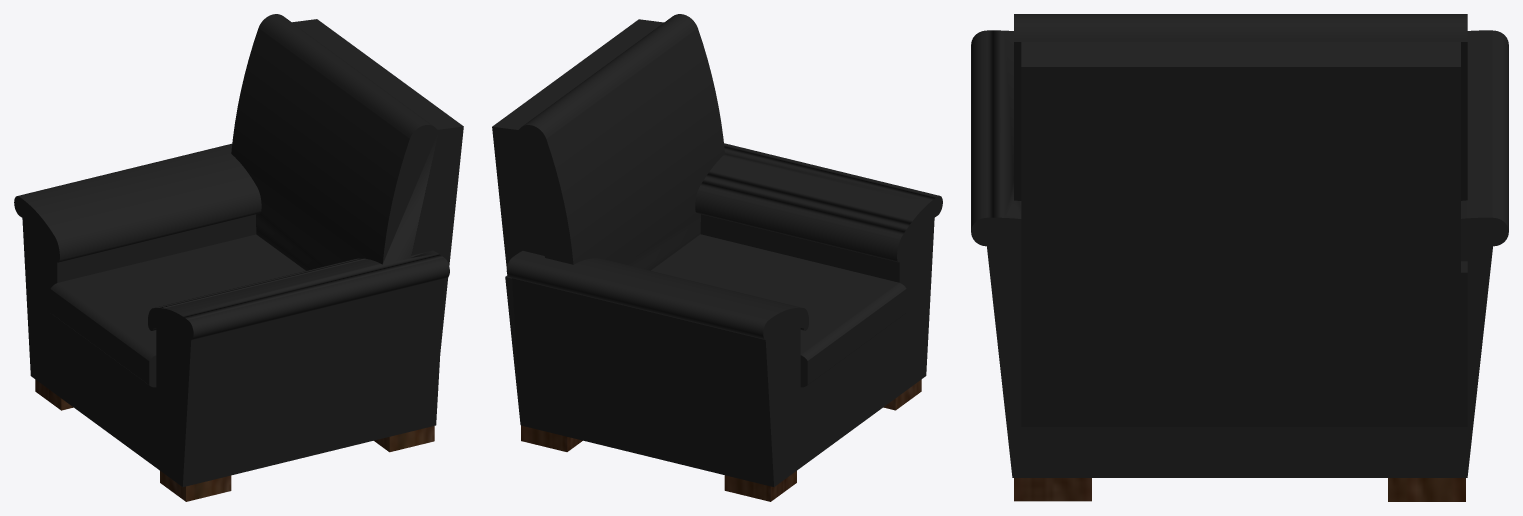
Rendered from VRETA_chair_1_obj0_object.obj.
3 renders of one model, left to right at view 1: azimuth 30°, elevation 25°; view 2: azimuth 150°, elevation 25°; view 3: azimuth 270°, elevation 25°, orthographic. The views are drawn at different scales.
Parts seen in each view (by area): view 1: Mesh1 Group1 Model; view 2: Mesh1 Group1 Model; view 3: Mesh1 Group1 Model.
Part boxes in pixels (x1,y1,x2,y2): Mesh1 Group1 Model: [14, 14, 463, 501]; Mesh1 Group1 Model: [492, 14, 942, 501]; Mesh1 Group1 Model: [971, 14, 1508, 501].
Bounding box in the file's own units: 37.9 × 39.65 × 40.5.
